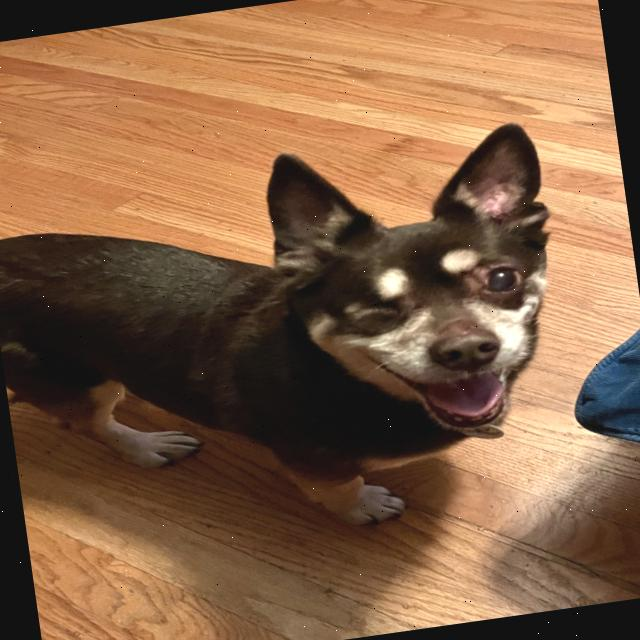corgi_dog: (211, 106, 596, 480)
